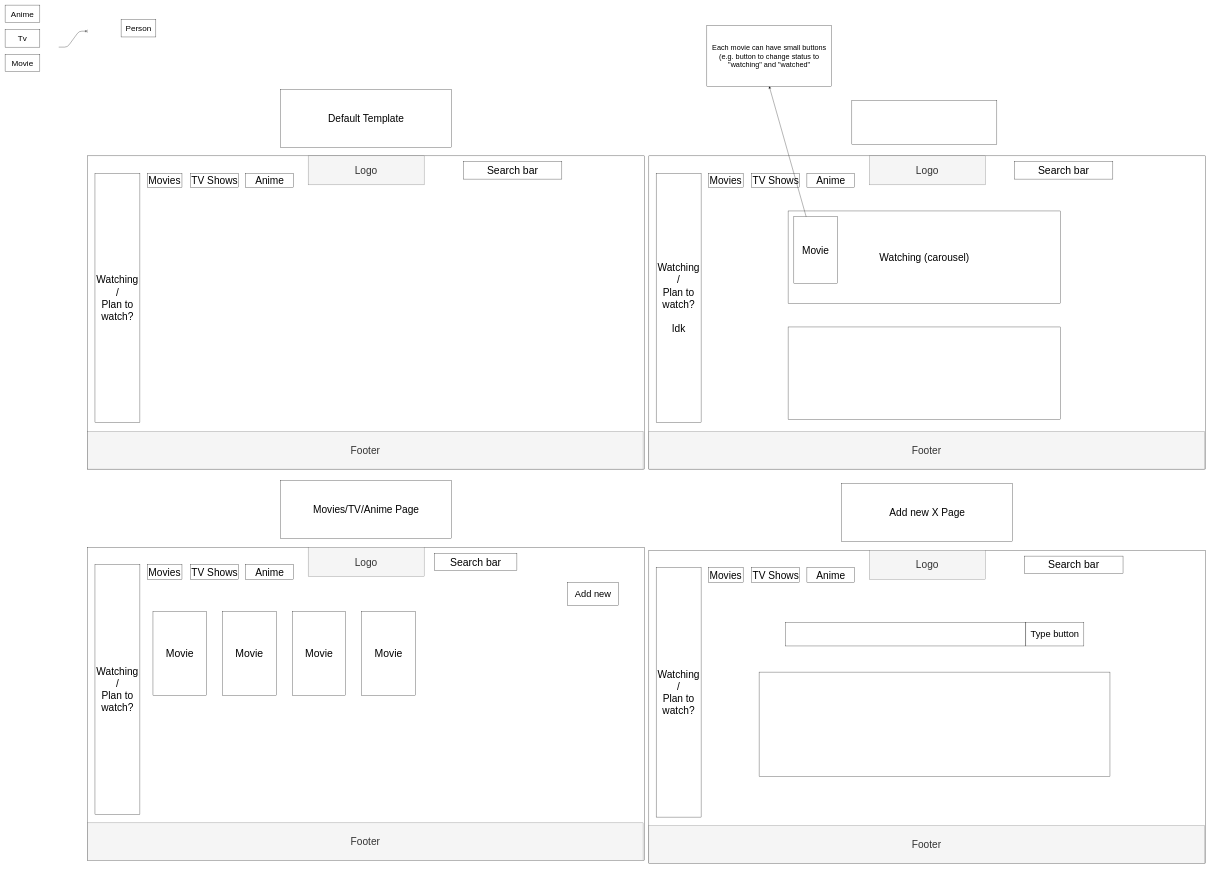
This 1211x869 diagram has some shape labels left out. Each missing label, with the centre of its shape:
Find new: [905,634]
Homepage: [924,122]
Planning to watch: [924,373]
Results: [934,724]
